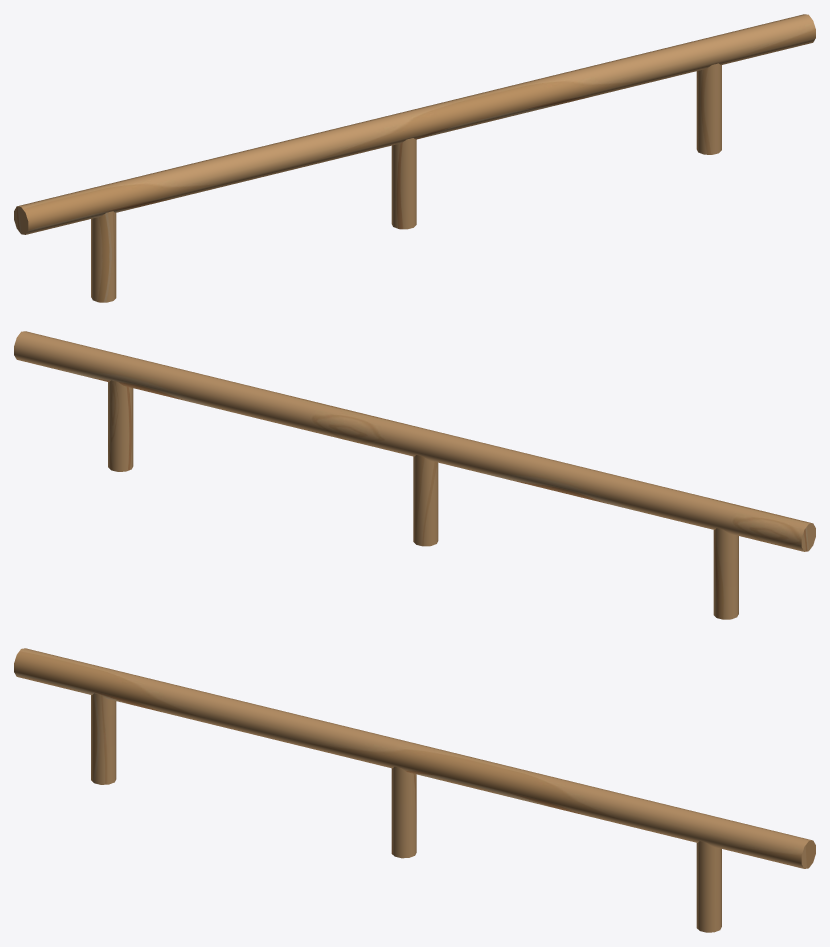
Rendered from wood_barrier.fbx.
3 views of the same model, one above another, from view 1: azimuth 30°, elevation 25°; view 2: azimuth 150°, elevation 25°; view 3: azimuth 330°, elevation 25° (orthographic).
Parts seen in each view (by area): view 1: wood_barrier; view 2: wood_barrier; view 3: wood_barrier.
Boxes of the visible parts, left/top/right/bottom form: wood_barrier: left=14, top=14, right=815, bottom=302; wood_barrier: left=14, top=331, right=815, bottom=619; wood_barrier: left=14, top=648, right=815, bottom=932.
Size of the model in its own units: 3.82 by 0.5133 by 0.1205.
